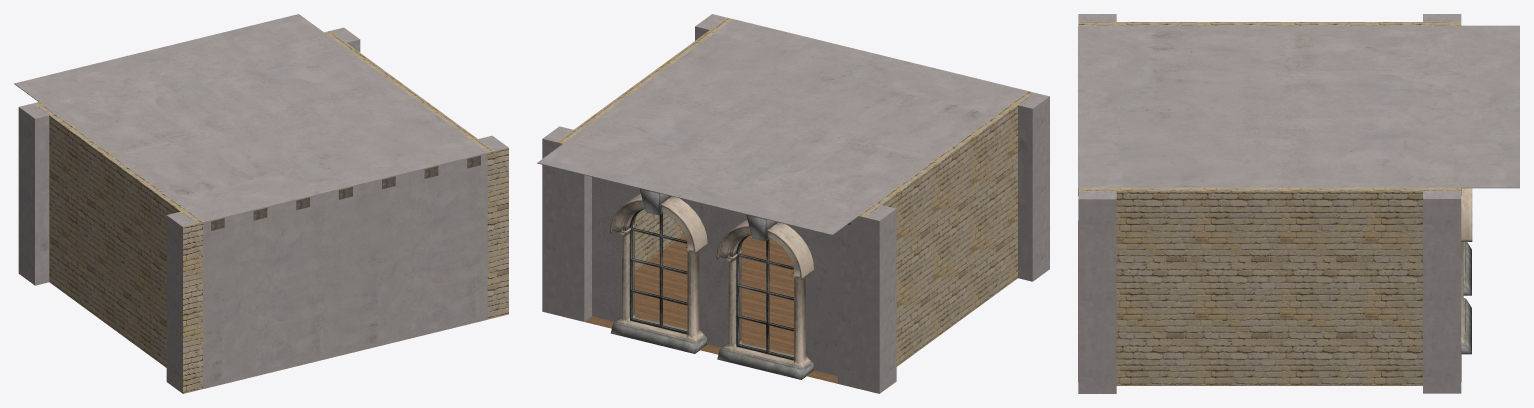
The model's file is room.glb.
3 renders of one model, left to right at view 1: azimuth 30°, elevation 25°; view 2: azimuth 150°, elevation 25°; view 3: azimuth 270°, elevation 25°, orthographic. The views are drawn at different scales.
Parts seen in each view (by area): view 1: Roof, WallLongSouth, WallLongWest, WallLongEast; view 2: Roof, WallLongWest, window_low, WallLongNorth, WallLongEast, Floor; view 3: WallLongEast, Roof, WallLongWest, window_low.
Part boxes in pixels (left/top/right/bottom): Roof: left=14, top=14, right=487, bottom=222; WallLongSouth: left=203, top=153, right=487, bottom=388; WallLongWest: left=18, top=102, right=203, bottom=393; WallLongEast: left=324, top=27, right=508, bottom=319; Roof: left=537, top=19, right=1028, bottom=235; WallLongWest: left=837, top=91, right=1049, bottom=393; window_low: left=610, top=188, right=813, bottom=379; WallLongNorth: left=592, top=177, right=837, bottom=376; WallLongEast: left=542, top=14, right=732, bottom=321; Floor: left=585, top=235, right=837, bottom=383; WallLongEast: left=1078, top=187, right=1461, bottom=393; Roof: left=1078, top=25, right=1519, bottom=188; WallLongWest: left=1078, top=14, right=1461, bottom=25; window_low: left=1461, top=188, right=1472, bottom=354.
Size of the model in its own units: 5.72 by 2.81 by 5.76.
Materials: 5 (5 with a texture image).
